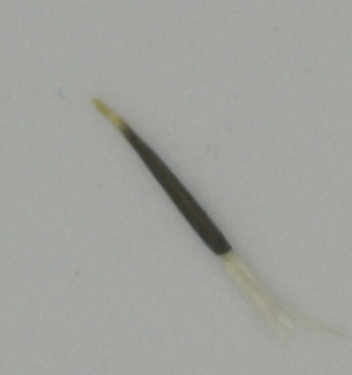เมล็ดดีเรียวยาว: (93, 96, 329, 358)
